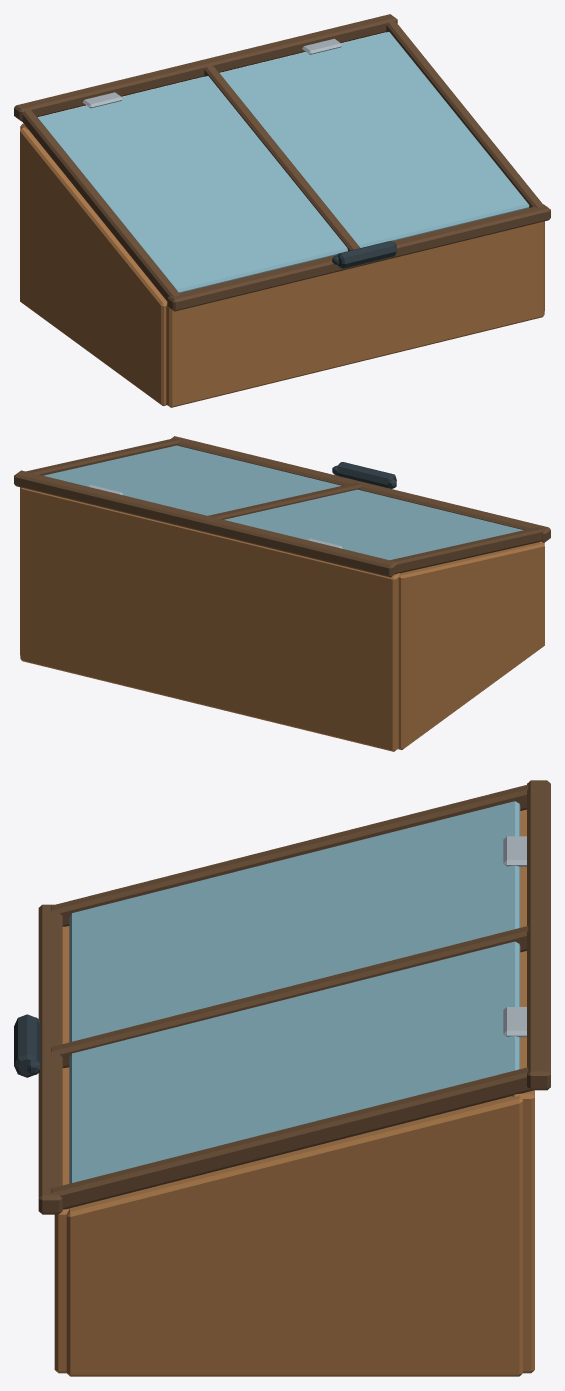
The model's file is b11_glazed_garden_cold_frame.glb.
The picture shows the model from 3 angles, top to bottom: view 1: azimuth 30°, elevation 25°; view 2: azimuth 150°, elevation 25°; view 3: azimuth 270°, elevation 25°; orthographic projection. The views are drawn at different scales.
Parts seen in each view (by area): view 1: b11_glazed_garden_cold_frame; view 2: b11_glazed_garden_cold_frame; view 3: b11_glazed_garden_cold_frame.
Part boxes in pixels (x1=…): b11_glazed_garden_cold_frame: x1=14, y1=14, x2=550, y2=407; b11_glazed_garden_cold_frame: x1=14, y1=436, x2=550, y2=751; b11_glazed_garden_cold_frame: x1=14, y1=780, x2=550, y2=1376.
Bounding box in the file's own units: 1.33 × 0.63 × 1.01.
